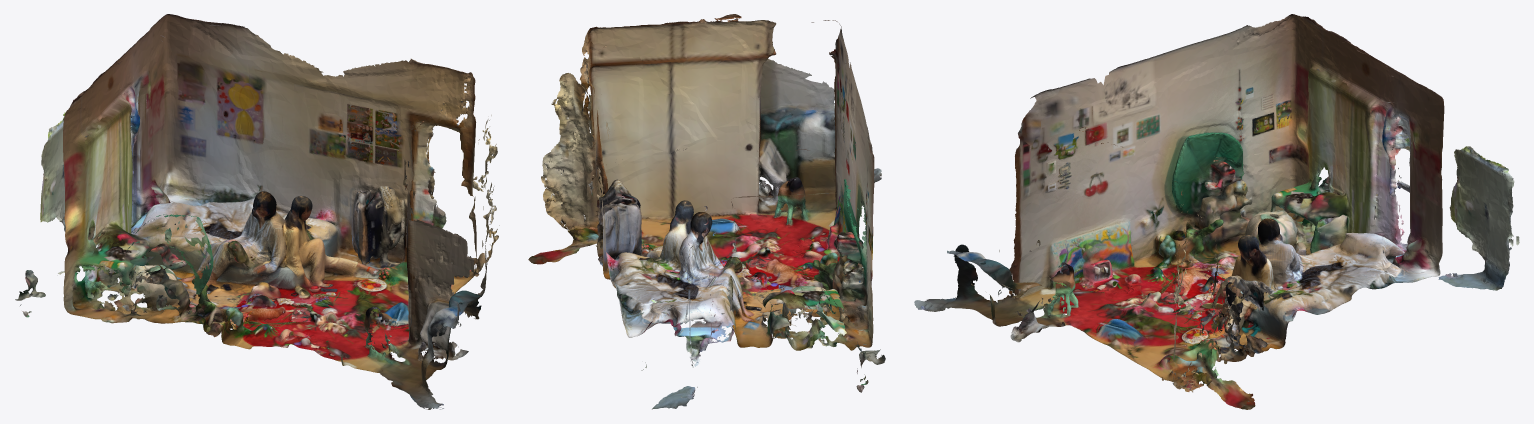
The model's file is KUMO&MUKI WEB.glb.
The picture shows the model from 3 angles, left to right: view 1: azimuth 30°, elevation 25°; view 2: azimuth 150°, elevation 25°; view 3: azimuth 270°, elevation 25°; orthographic projection. The views are drawn at different scales.
Parts seen in each view (by area): view 1: mesh; view 2: mesh; view 3: mesh.
Boxes of the visible parts, x1=… form: mesh: x1=15, y1=14, x2=499, y2=409; mesh: x1=528, y1=14, x2=885, y2=409; mesh: x1=914, y1=14, x2=1519, y2=409.
Bounding box in the file's own units: 4.96 × 2.57 × 6.27.
1 material, 1 textured.
